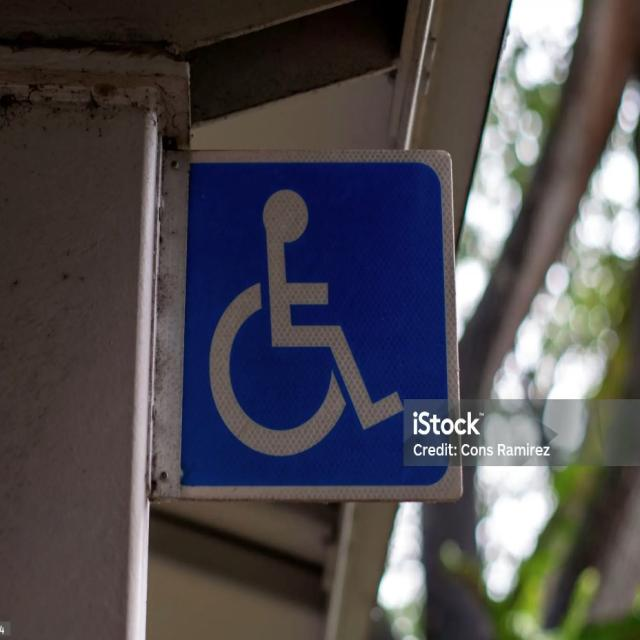symbol_of_access: (180, 157, 454, 490)
